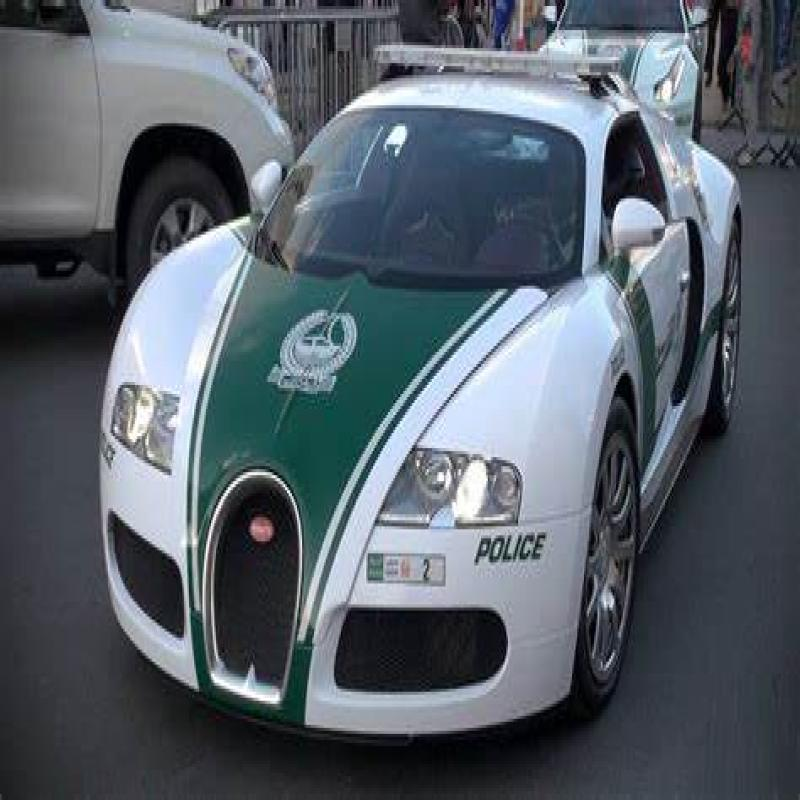AmbulanceSiren: (369, 16, 610, 87)
